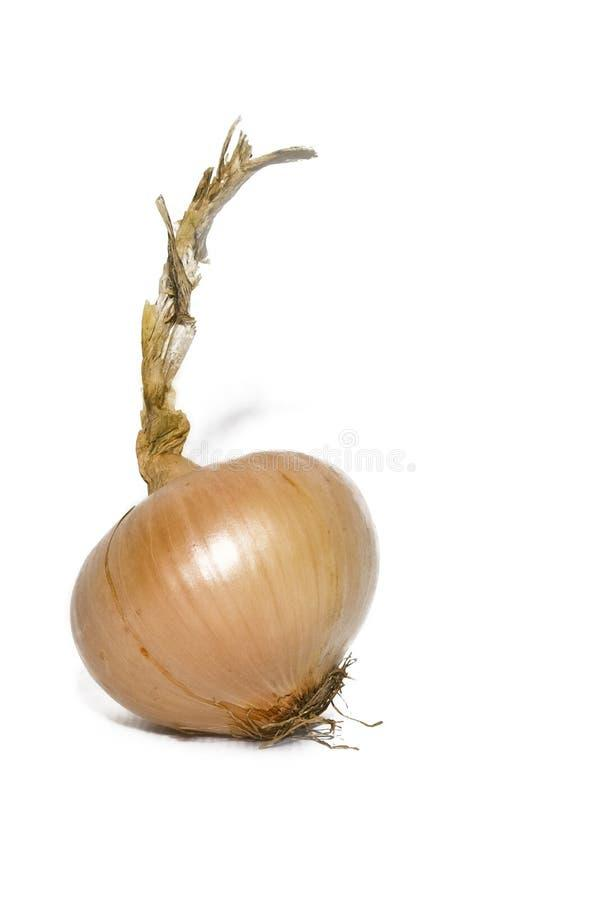Onion: (72, 407, 377, 741)
